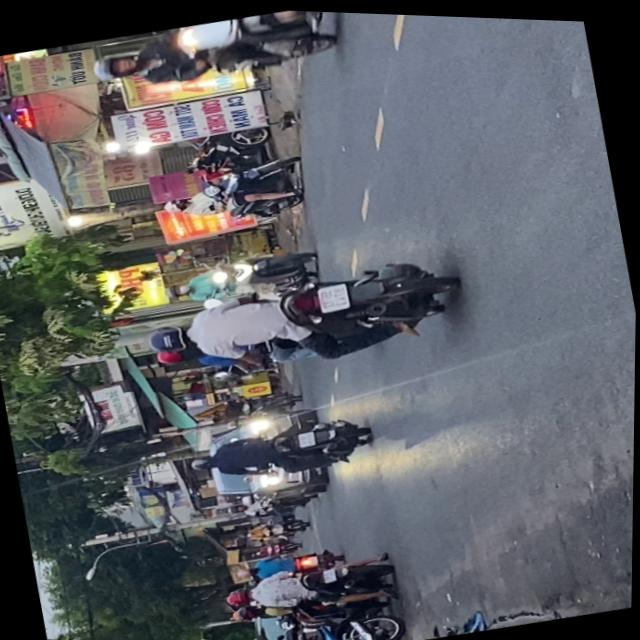helmet: (88, 48, 142, 84), (142, 319, 194, 355), (155, 344, 190, 367), (224, 584, 255, 606), (162, 280, 191, 300), (162, 194, 191, 214), (189, 452, 215, 471)
licenseplate: (135, 241, 468, 396), (83, 2, 351, 107), (183, 405, 375, 493), (221, 544, 401, 626), (155, 146, 311, 236), (157, 237, 327, 315)
nohelmet: (317, 279, 350, 311), (298, 428, 316, 446), (322, 567, 339, 581)
